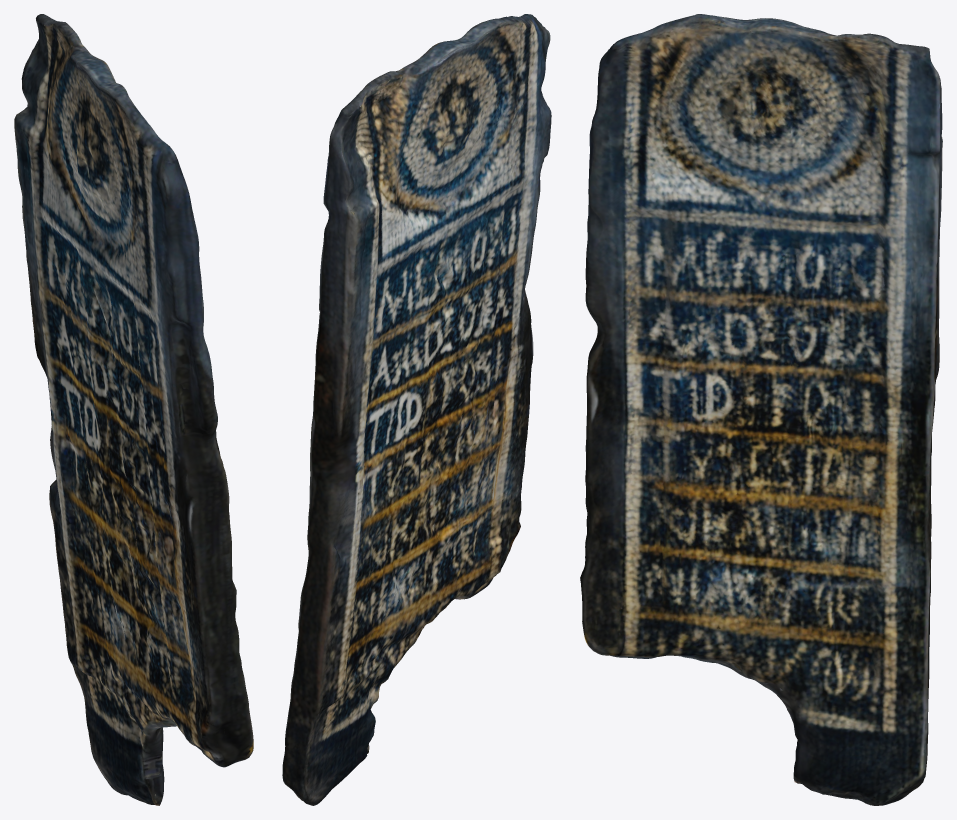
Rendered from primary.glb.
3 views of the same model, side by side, from view 1: azimuth 30°, elevation 25°; view 2: azimuth 150°, elevation 25°; view 3: azimuth 270°, elevation 25° (orthographic). The views are drawn at different scales.
Bounding box in the file's own units: 0.3154 × 2 × 0.8793.
1 material, 1 textured.
